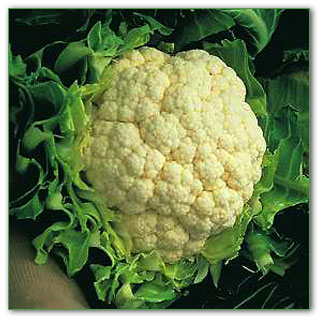cauliflower: (73, 46, 267, 261)
